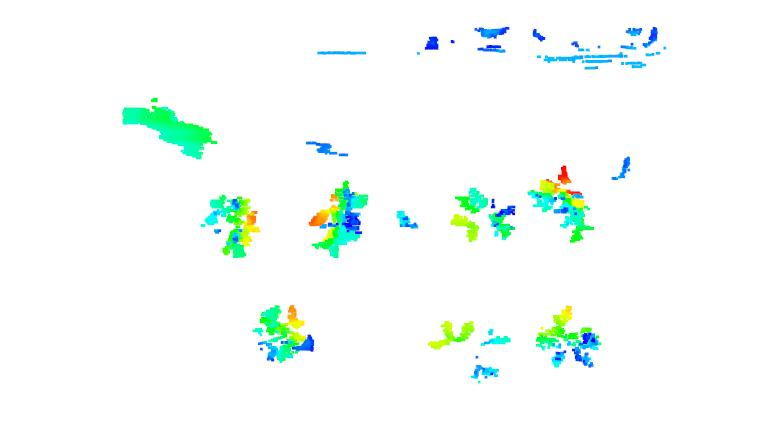chickpea: (525, 163, 597, 245), (425, 318, 516, 378), (306, 178, 373, 258), (200, 194, 269, 261), (532, 304, 602, 369), (251, 301, 316, 366), (452, 187, 522, 243)
